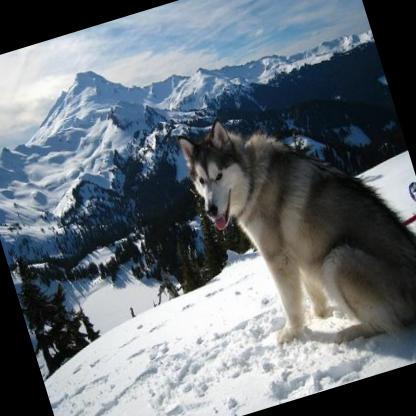malamute: (165, 67, 416, 385)
